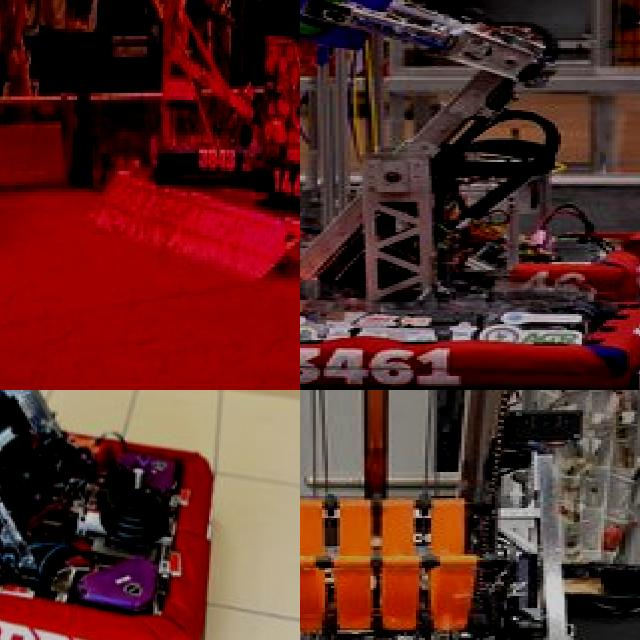FRC-Robots: (300, 0, 640, 390), (300, 31, 640, 296), (300, 390, 640, 640), (0, 390, 221, 640), (133, 0, 252, 233), (259, 0, 300, 300)
